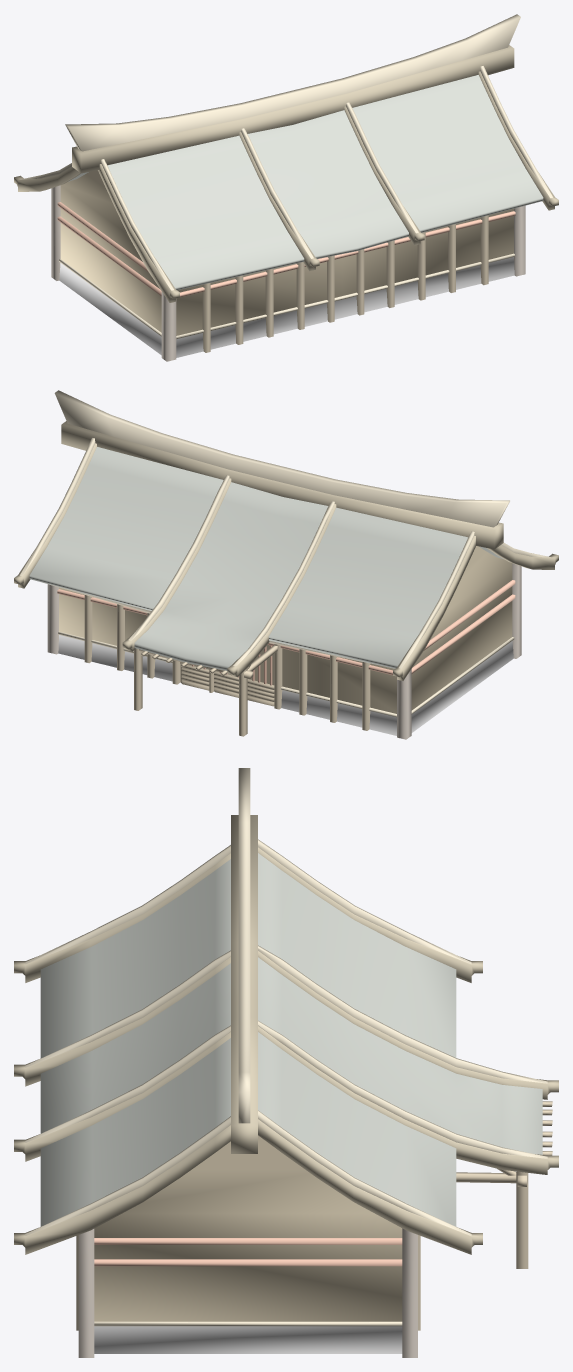
Rendered from building-courtyard-bare.glb.
The picture shows the model from 3 angles, top to bottom: view 1: azimuth 30°, elevation 25°; view 2: azimuth 150°, elevation 25°; view 3: azimuth 270°, elevation 25°; orthographic projection. The views are drawn at different scales.
Parts seen in each view (by area): view 1: building-courtyard; view 2: building-courtyard; view 3: building-courtyard.
Part boxes in pixels (x1,y1,x2,y2): building-courtyard: (14, 14, 558, 361); building-courtyard: (14, 390, 558, 739); building-courtyard: (14, 768, 558, 1357).
Size of the model in its own units: 14.05 by 6.09 by 9.98.
